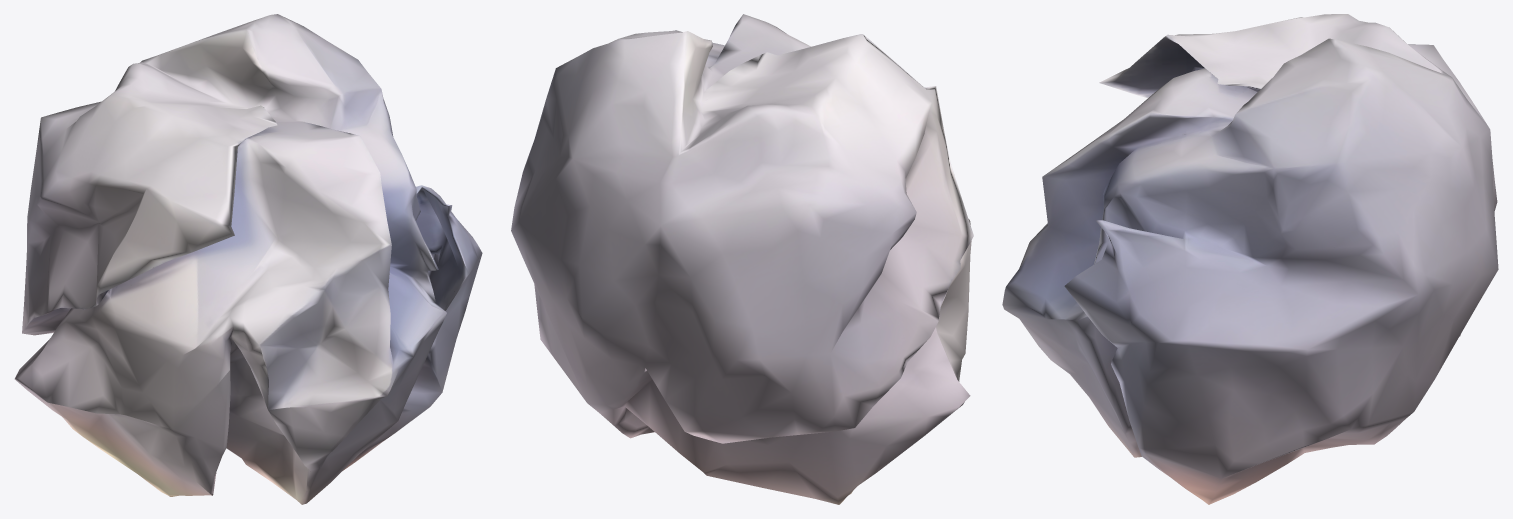
Rendered from Papel.fbx.
3 views of the same model, side by side, from view 1: azimuth 30°, elevation 25°; view 2: azimuth 150°, elevation 25°; view 3: azimuth 270°, elevation 25° (orthographic). The views are drawn at different scales.
Visible parts, largest first — view 1: Papel; view 2: Papel; view 3: Papel.
Part boxes in pixels (x1,y1,x2,y2): Papel: [14, 14, 482, 504]; Papel: [511, 14, 973, 504]; Papel: [1002, 14, 1498, 504].
Bounding box in the file's own units: 0.3016 × 0.3 × 0.2946.
1 material, 1 textured.
